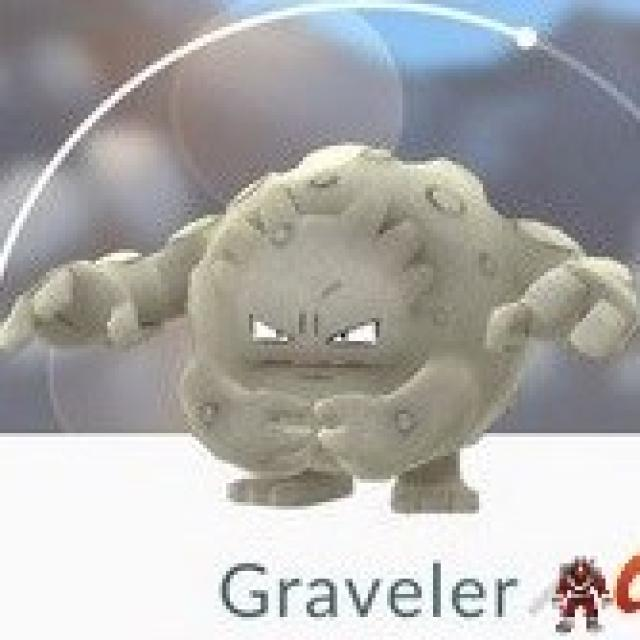Graveler: (90, 141, 578, 496)
